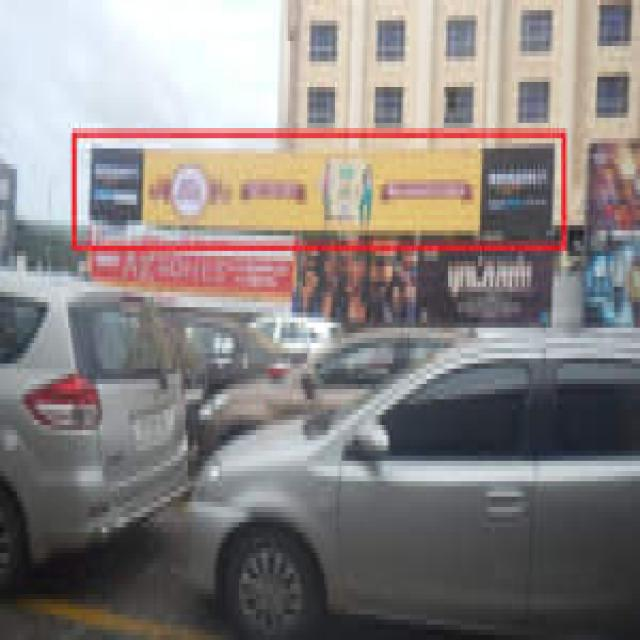Werbetafel frei: (91, 141, 555, 244)
